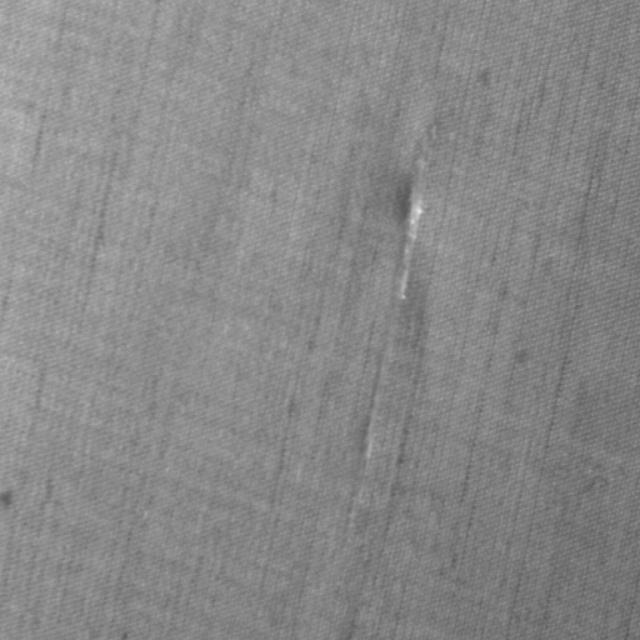thread error: (380, 91, 444, 329)
